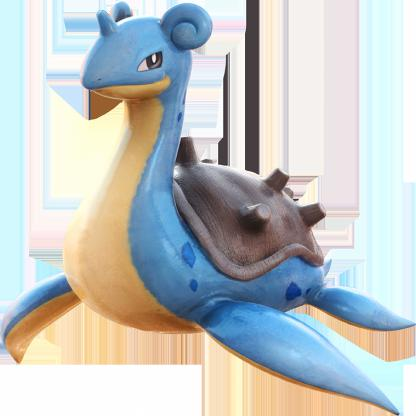Lapras: (1, 3, 416, 412)
